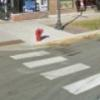crosswalks: (6, 48, 100, 97)
